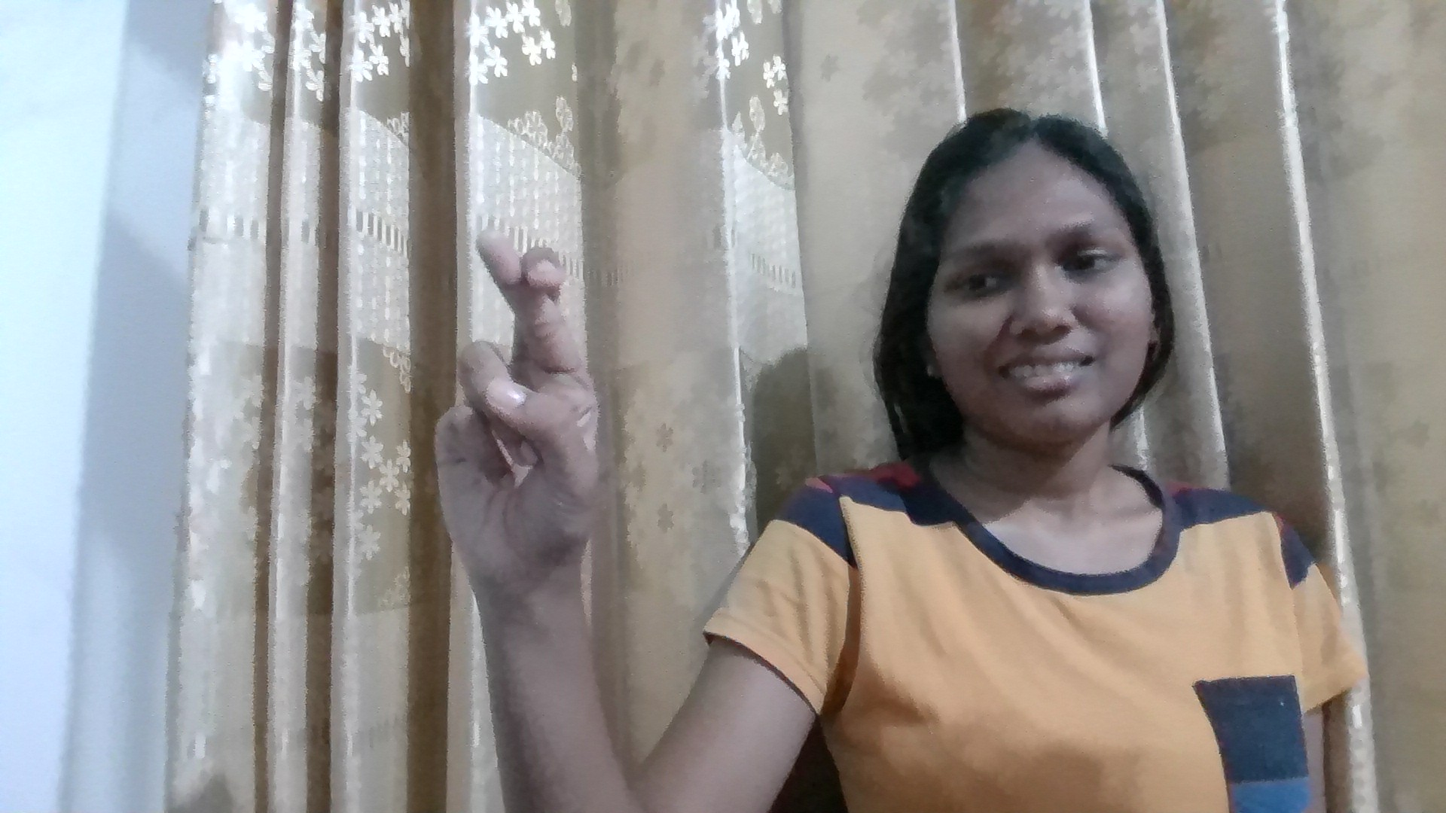Good_Luck: (365, 235, 772, 674)
